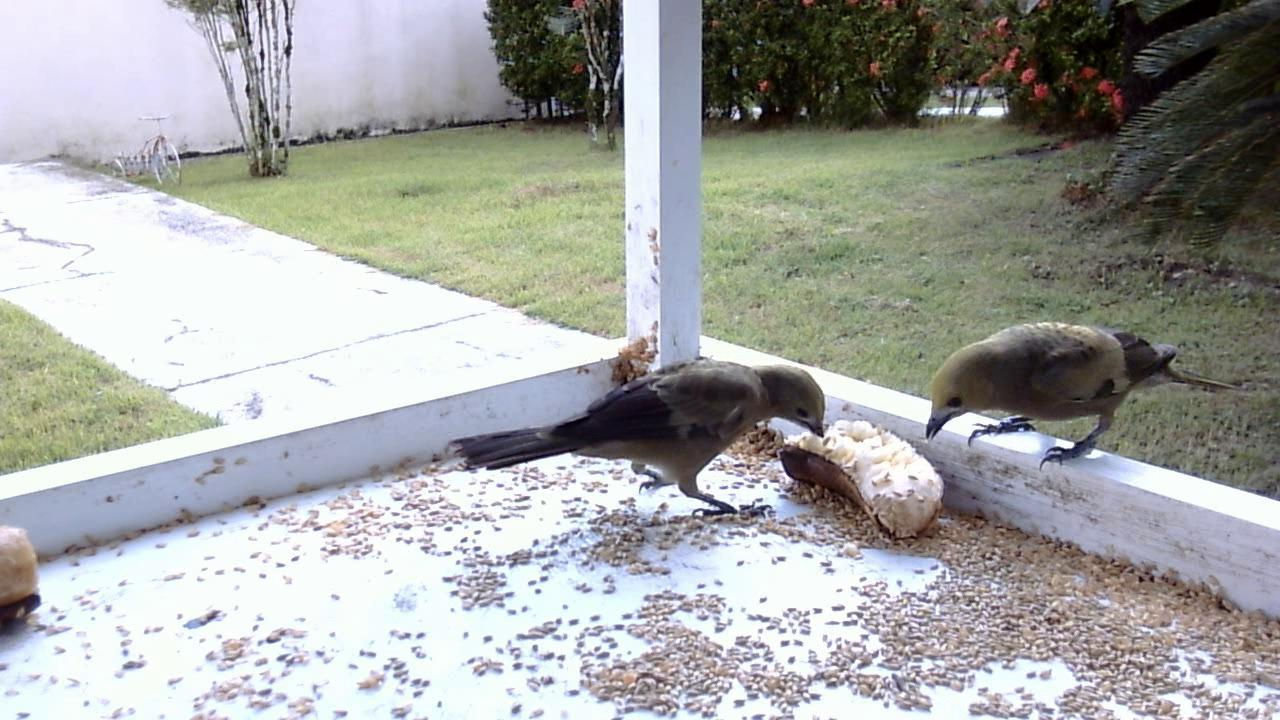sanhaco_do_coqueiro: (458, 345, 821, 527), (920, 311, 1250, 483)
